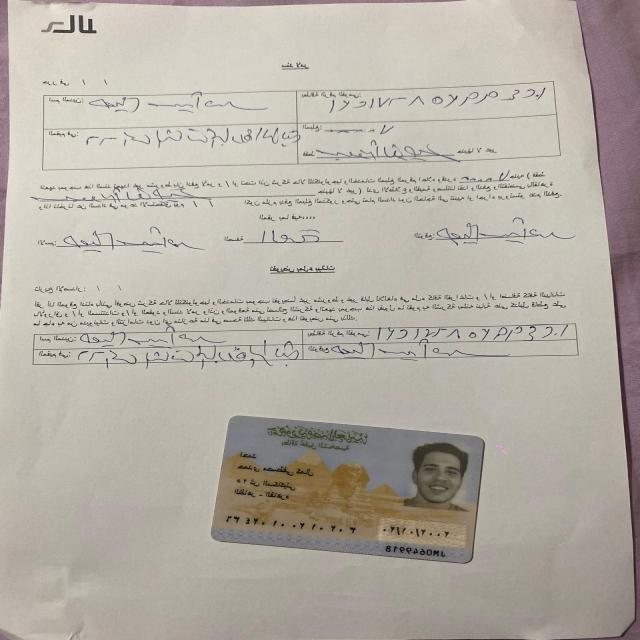ID-cards: (204, 411, 489, 569)
